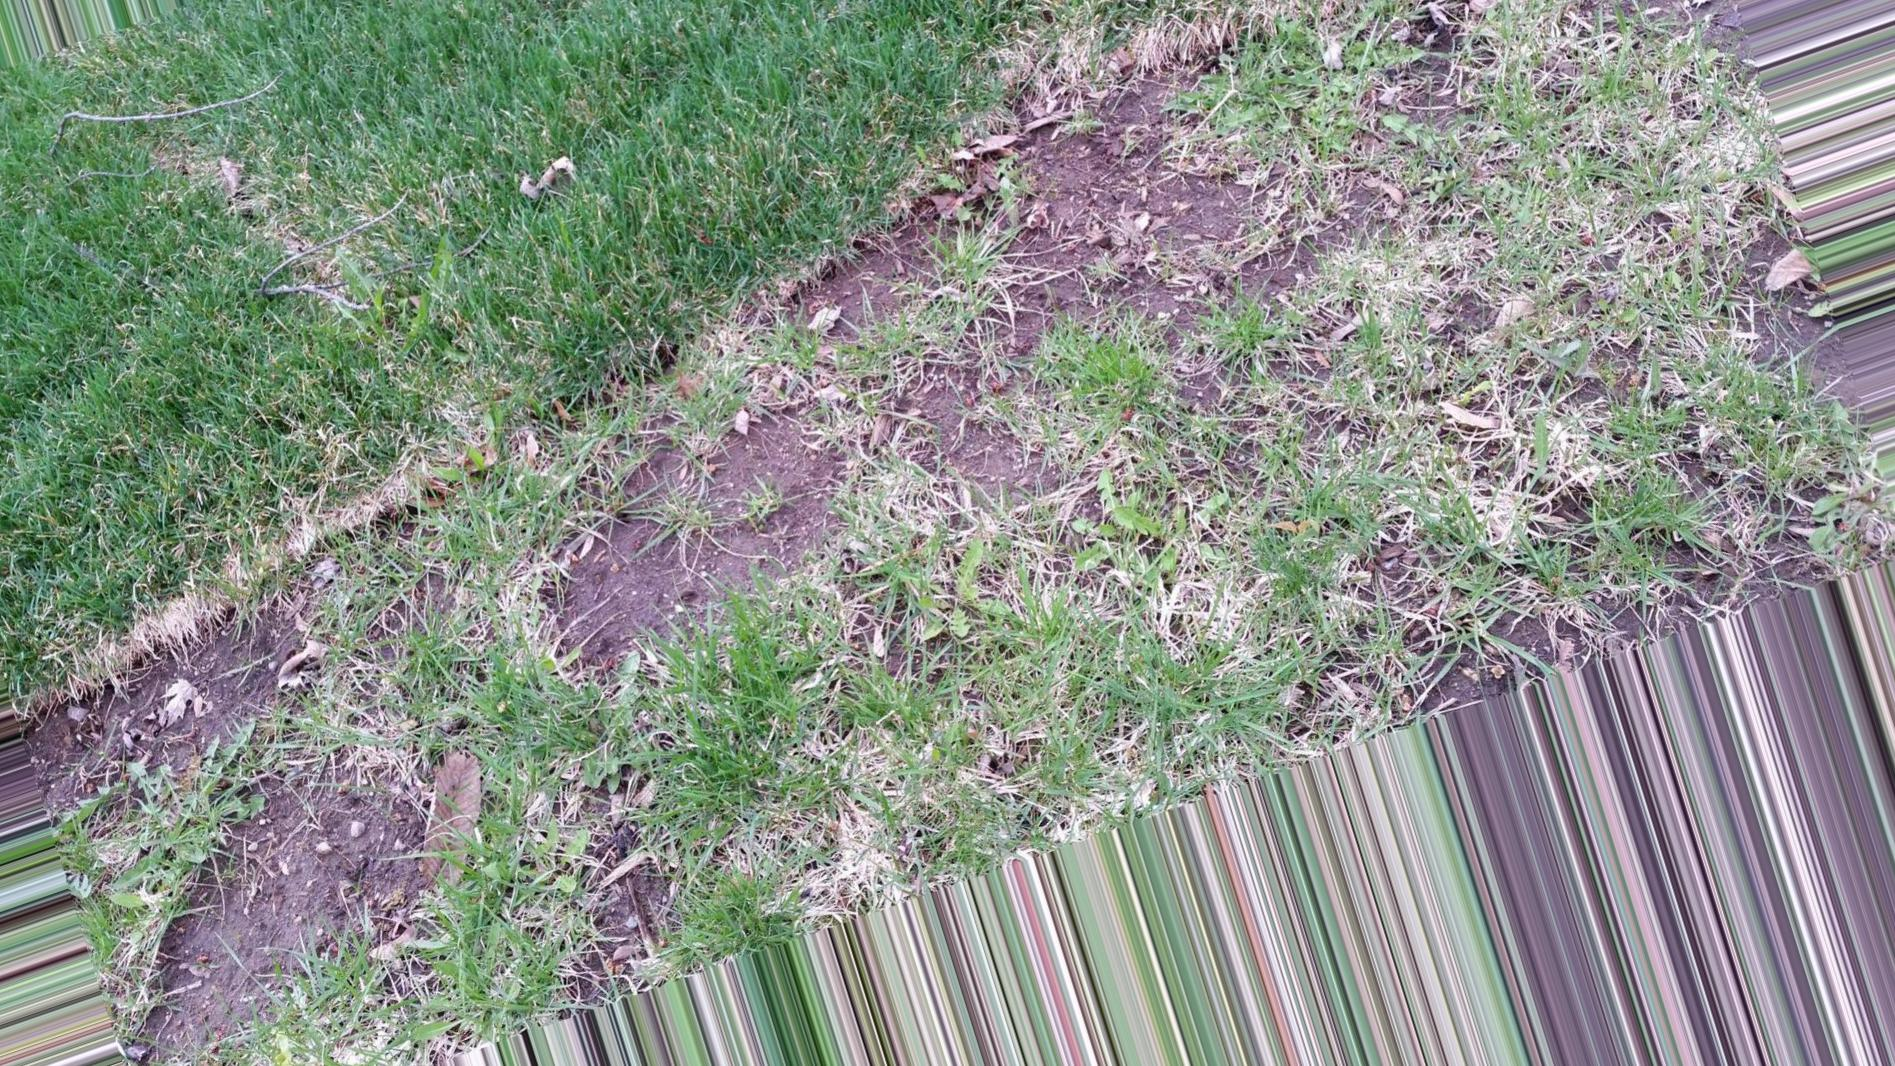patch: (1029, 156, 1278, 338), (586, 482, 800, 601), (260, 812, 389, 933)
